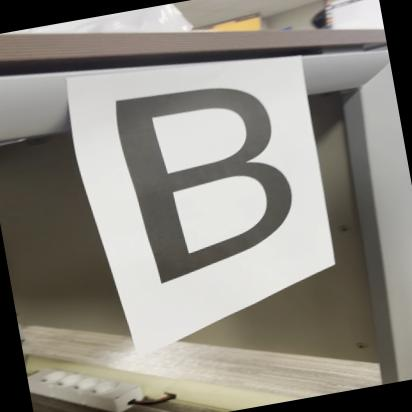seat: (70, 50, 346, 298)
